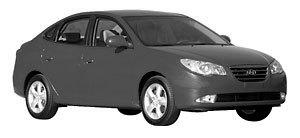car: (12, 9, 290, 129)
